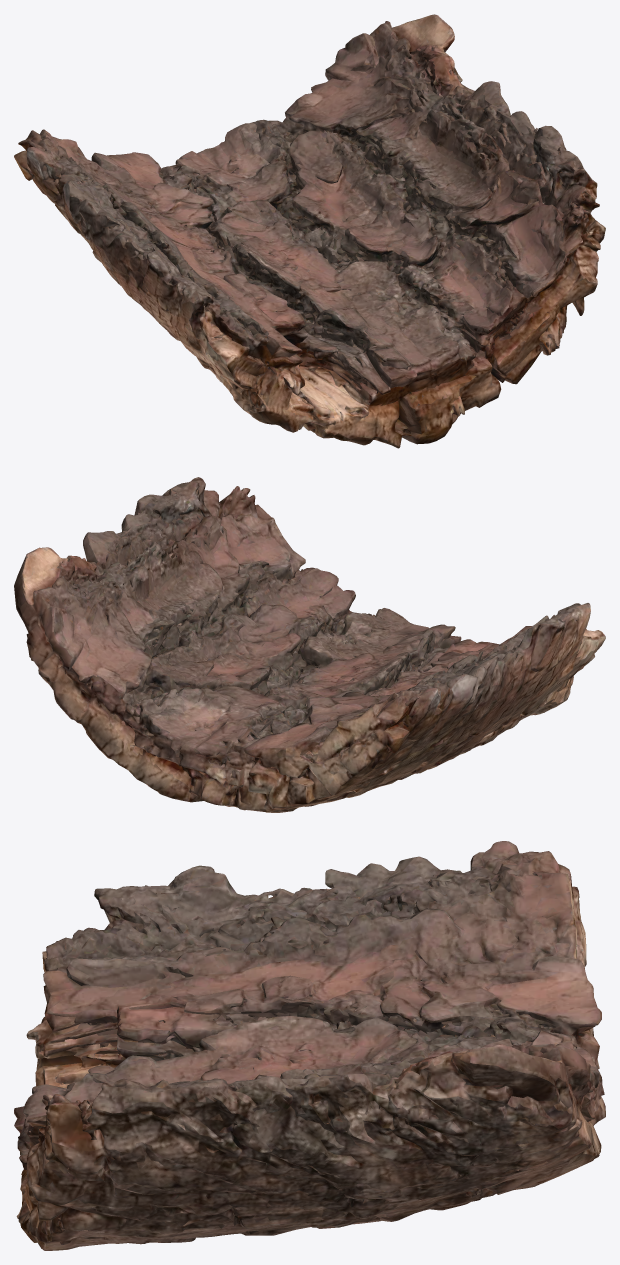
File: bark-flake-v11-lod.glb
3 renders of one model, top to bottom at view 1: azimuth 30°, elevation 25°; view 2: azimuth 150°, elevation 25°; view 3: azimuth 270°, elevation 25°, orthographic. The views are drawn at different scales.
Parts seen in each view (by area): view 1: geometry_0; view 2: geometry_0; view 3: geometry_0.
Boxes of the visible parts, x1=… form: geometry_0: x1=14, y1=14, x2=605, y2=448; geometry_0: x1=14, y1=477, x2=605, y2=812; geometry_0: x1=14, y1=841, x2=605, y2=1250.
Size of the model in its own units: 0.3497 by 0.1988 by 0.3429.
1 material, 1 textured.
